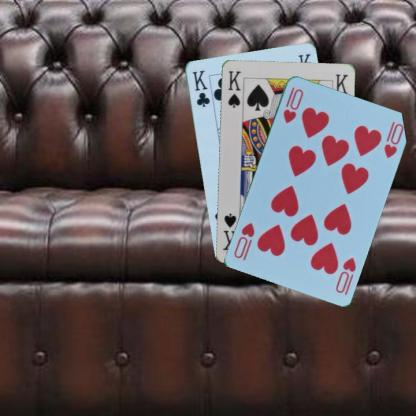10h: (280, 84, 305, 124), (333, 254, 357, 294)
Kc: (189, 67, 211, 108)
Ks: (225, 68, 242, 109)
